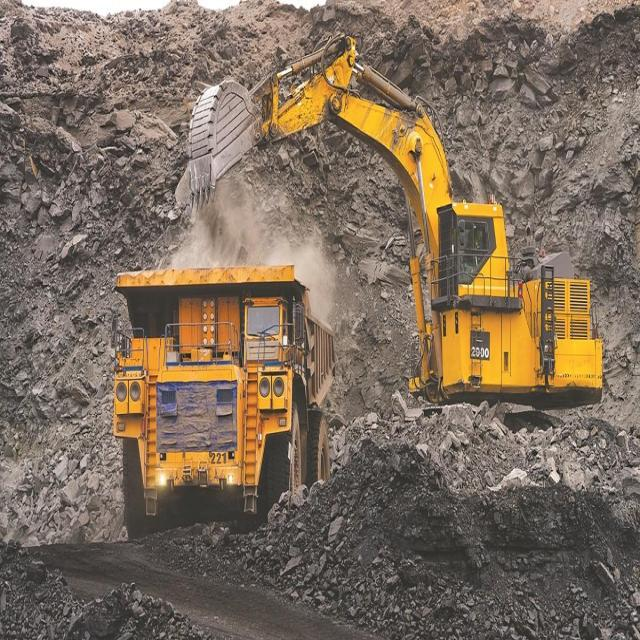dump_truck: (106, 269, 333, 541)
excavator: (196, 22, 534, 267)
